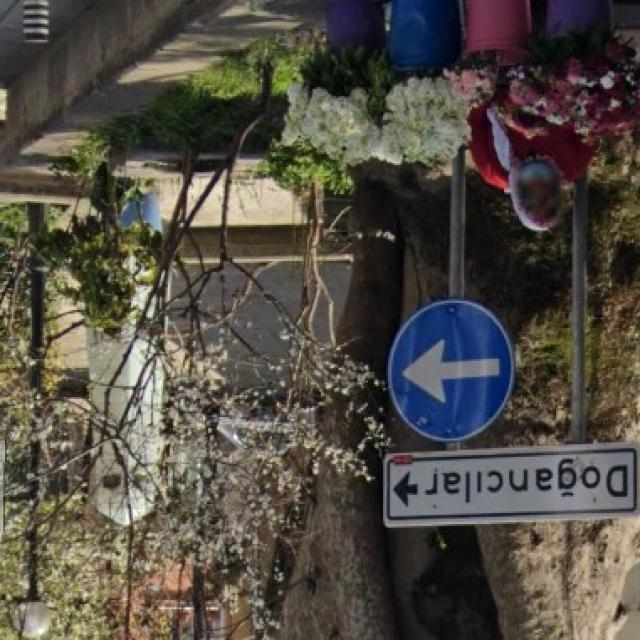Turn Left: (392, 297, 514, 448)
